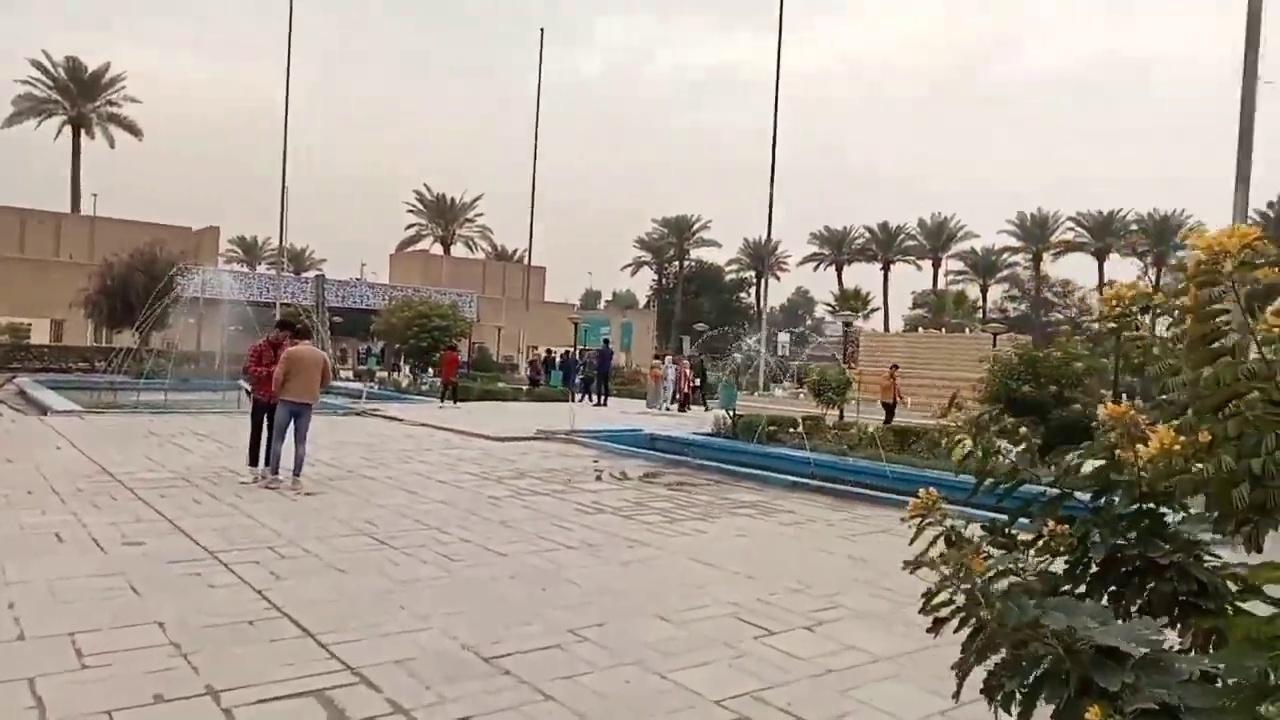fountain: (3, 231, 1276, 716), (535, 411, 1120, 531), (10, 259, 267, 414), (678, 309, 860, 403)
person: (263, 321, 331, 490), (237, 318, 296, 485), (878, 362, 907, 424), (438, 343, 461, 407), (717, 372, 737, 419)
tree: (899, 202, 1279, 718), (0, 48, 143, 213), (70, 237, 189, 346), (724, 234, 792, 392), (649, 212, 721, 353), (996, 205, 1066, 349), (1125, 205, 1194, 338), (367, 293, 472, 377), (907, 210, 979, 329), (818, 283, 880, 420), (853, 219, 922, 333), (394, 181, 494, 257), (796, 222, 870, 322), (1055, 206, 1134, 298), (620, 229, 678, 354), (217, 232, 277, 338), (283, 273, 342, 379), (69, 253, 136, 344), (946, 242, 1020, 322), (268, 240, 326, 319), (723, 331, 791, 393), (901, 286, 972, 332), (802, 363, 853, 421), (820, 283, 880, 326), (217, 232, 277, 271), (777, 284, 817, 330), (277, 241, 326, 276), (1249, 192, 1279, 247), (484, 241, 528, 263)
